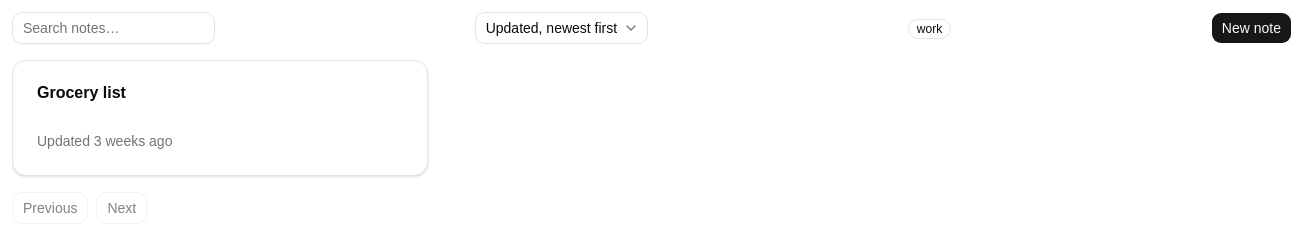
Scenario: NotesListPage › typing a search query renders search results and hides the sort/tag controls
Expected: the dropdown is shown, [475,12,648,44]
Type "grocery" into the search field labelled "Search notes…" at (114, 28), box [12,12,215,44]
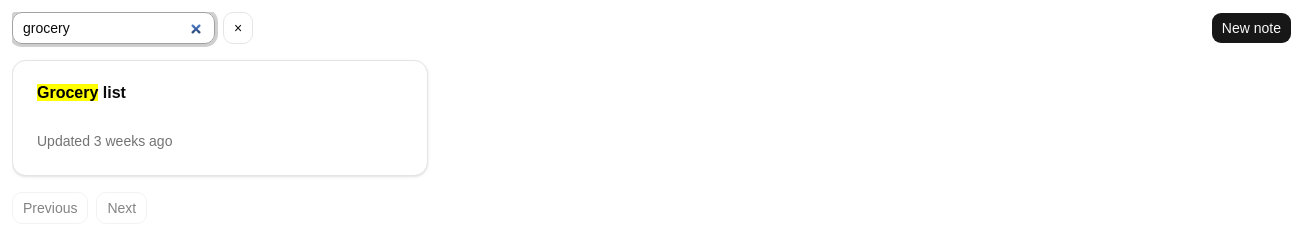
Expected: the text "Grocery" is shown, [37,84,98,101]
Now the dropdown is gone
